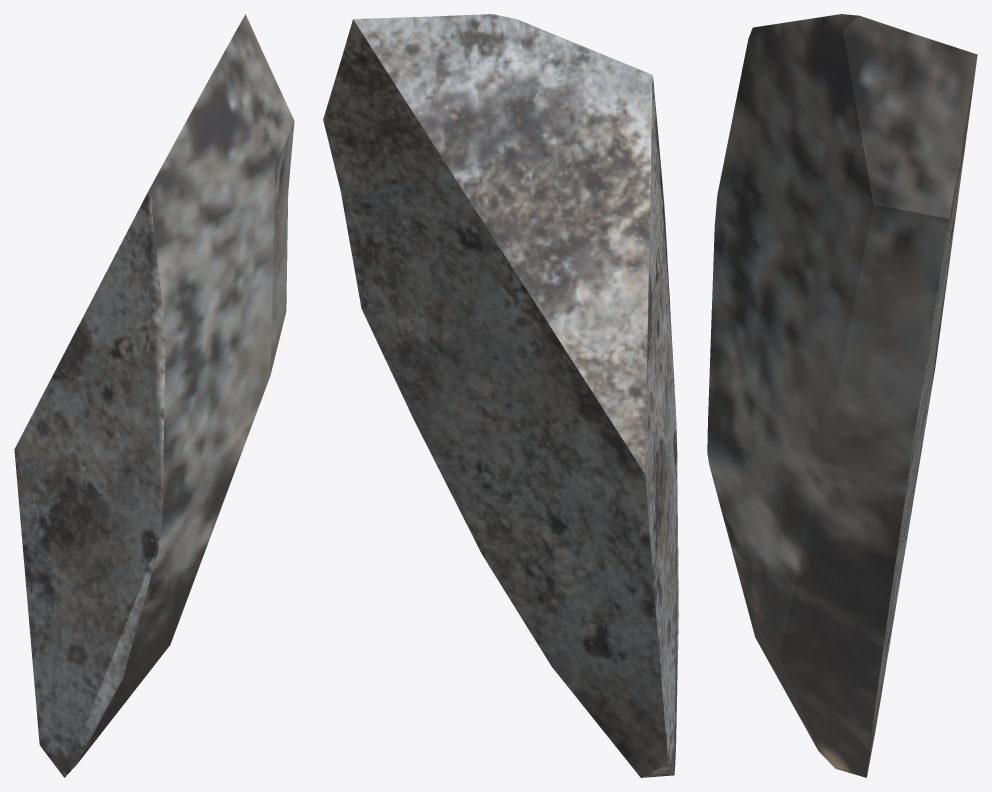
File: Asteroid_Medium_001_02_004_03_001.fbx
3 views of the same model, side by side, from view 1: azimuth 30°, elevation 25°; view 2: azimuth 150°, elevation 25°; view 3: azimuth 270°, elevation 25° (orthographic). The views are drawn at different scales.
Visible parts, largest first — view 1: Asteroid_Medium_001_02_004_03_001; view 2: Asteroid_Medium_001_02_004_03_001; view 3: Asteroid_Medium_001_02_004_03_001.
Boxes of the visible parts, x1,y1,x2,y2 form: Asteroid_Medium_001_02_004_03_001: (14, 14, 294, 777); Asteroid_Medium_001_02_004_03_001: (323, 14, 678, 777); Asteroid_Medium_001_02_004_03_001: (707, 14, 977, 777).
Size of the model in its own units: 6.22 by 13.87 by 3.94.
